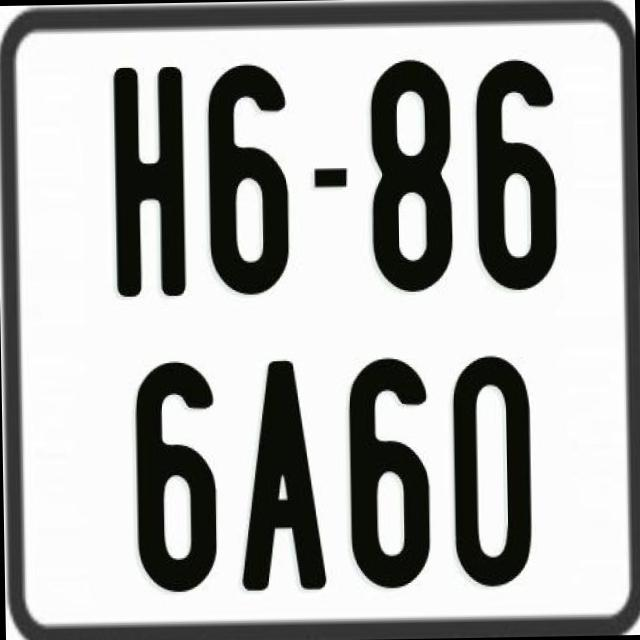0: (447, 352, 535, 591)
6: (472, 60, 562, 298), (132, 358, 220, 596), (205, 65, 292, 302), (348, 358, 433, 596)
8: (368, 54, 456, 287)
A: (238, 356, 332, 592)
H: (109, 64, 185, 300)
